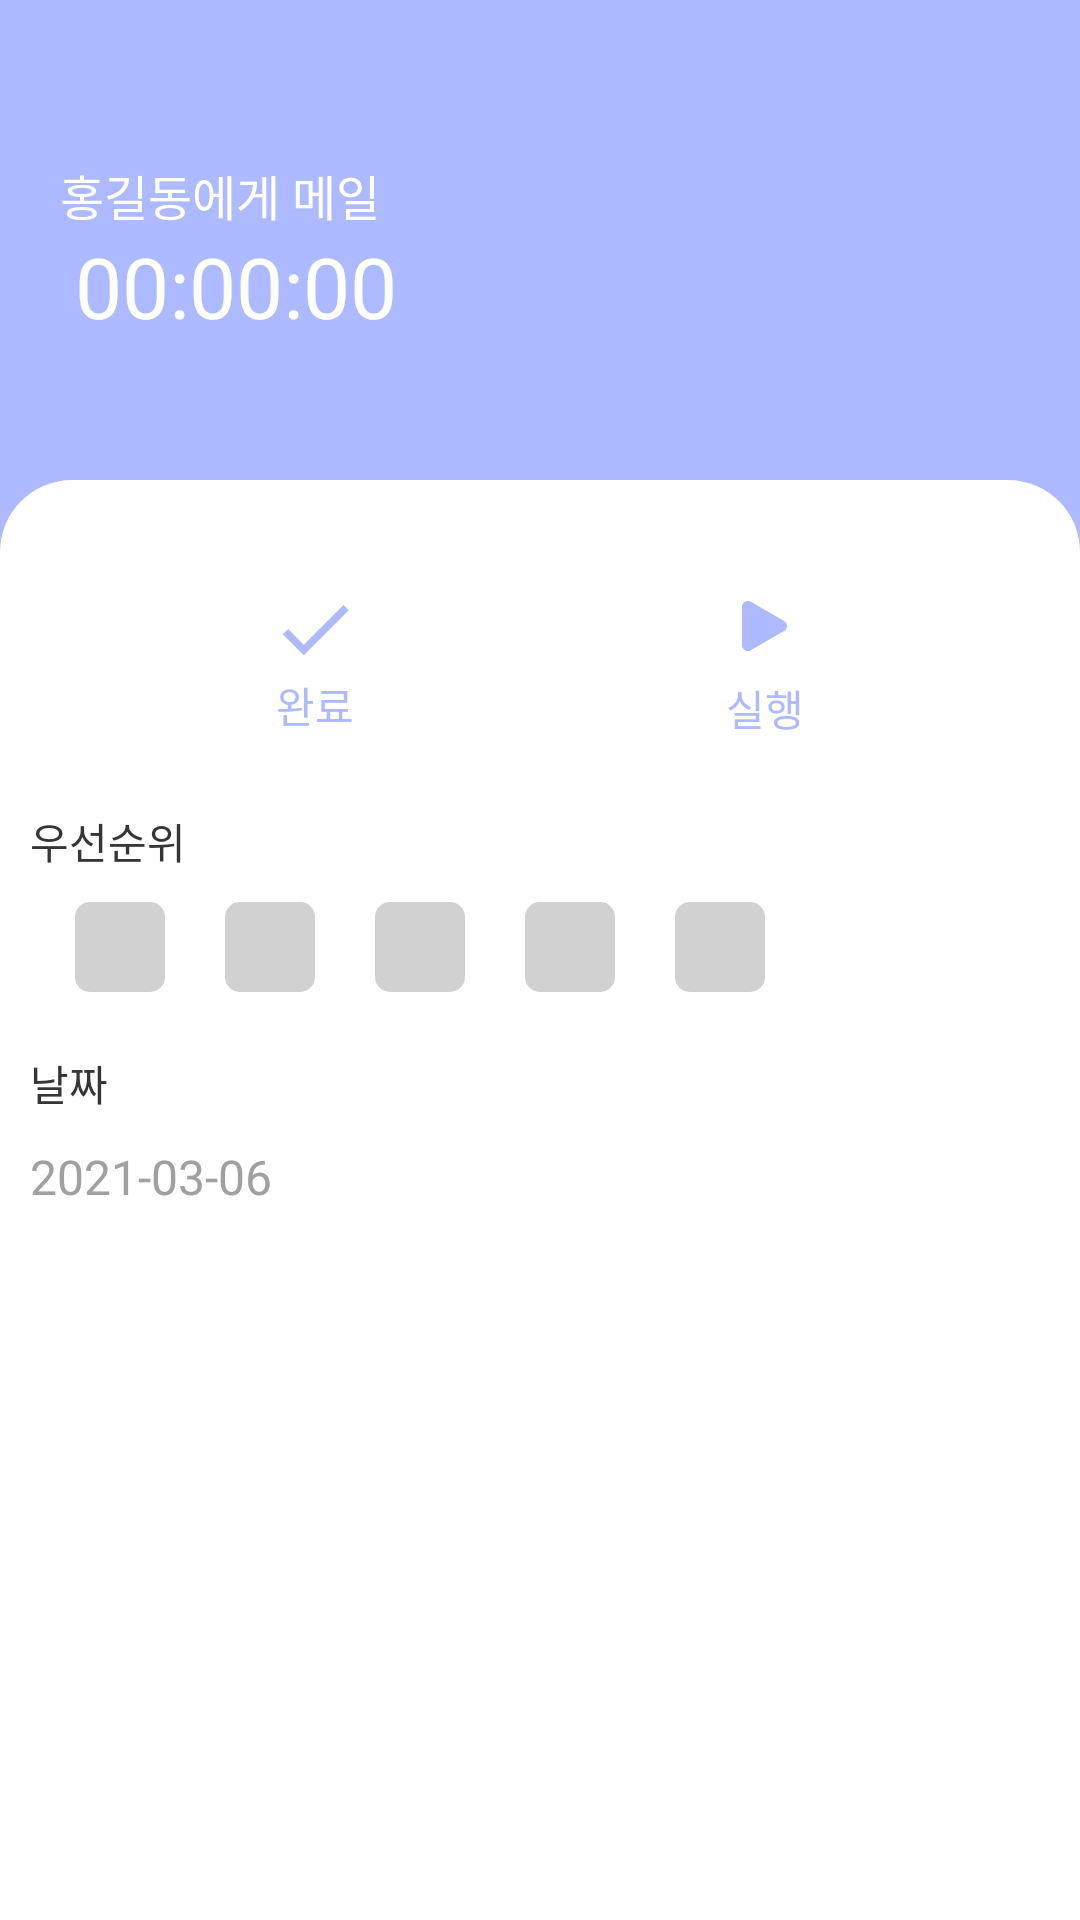

Screen size 1080px×1920px. Icon name, then its box in pixels as (x1, y1, x2, y2):
check: (283, 605, 349, 655)
tri: (742, 601, 787, 651)
